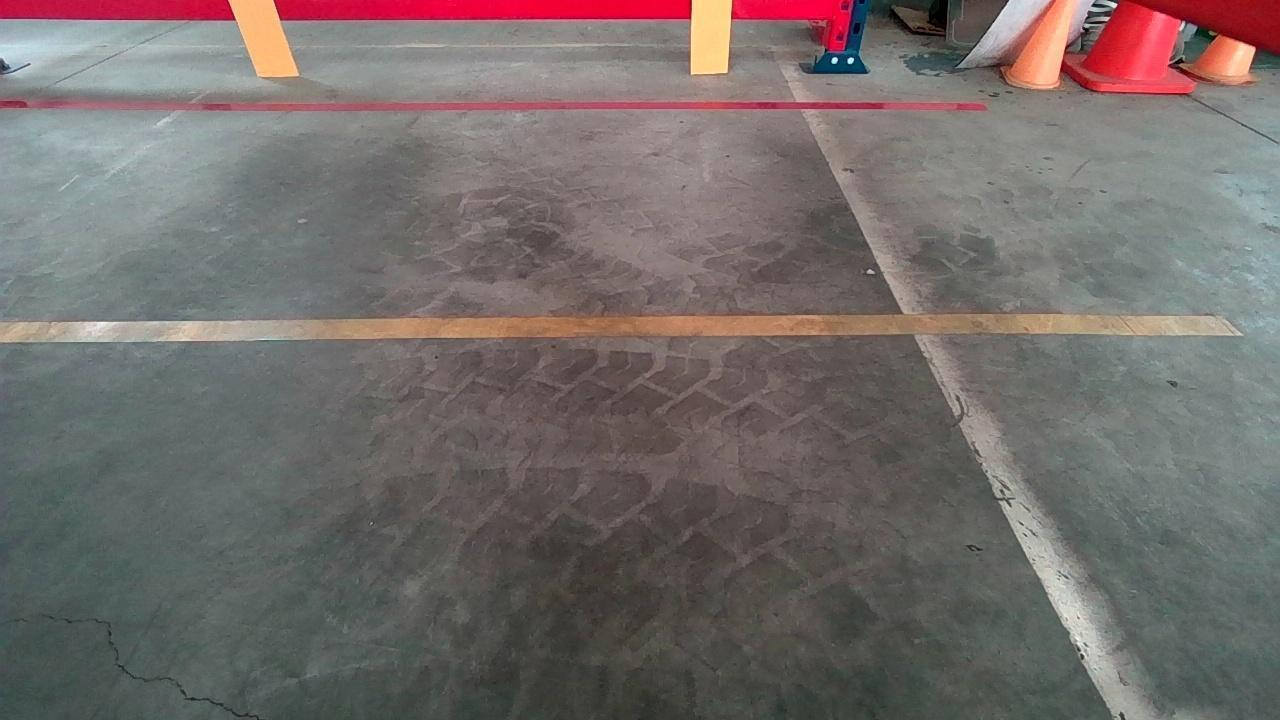yellow_line: (6, 314, 1245, 343)
